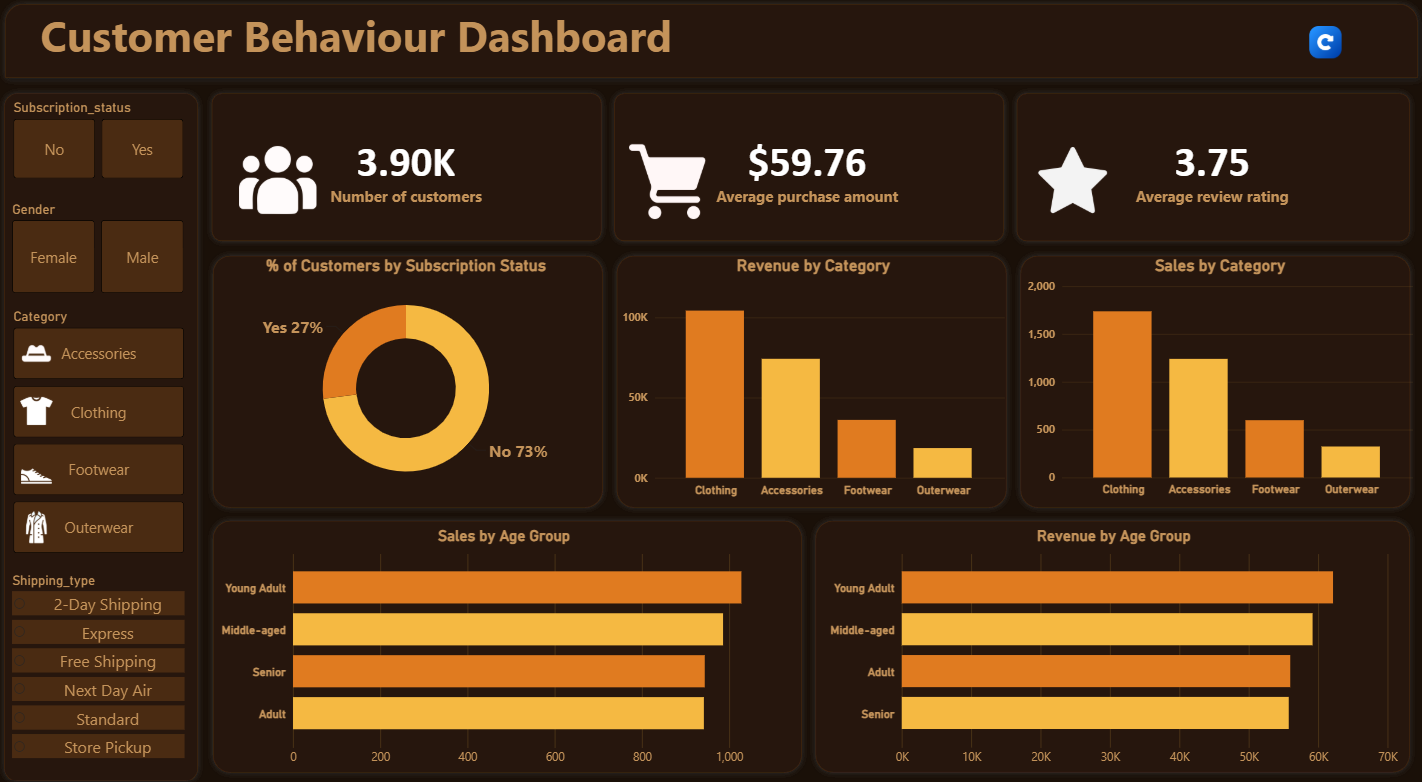

Layout of this report page (visuals, bound fields, positions):
{"tool":"powerbi","page":{"name":"Dashboard","canvas":[1800,1000],"ordinal":0},"visuals":[{"type":"shape","box":[1022.4,652.2,767.2,335.5],"z":0},{"type":"shape","box":[1281.3,318.4,509.4,335.8],"z":1000},{"type":"shape","box":[262.4,652.2,760.3,335.8],"z":2000},{"type":"shape","box":[771.9,318.4,509.4,335.8],"z":3000},{"type":"shape","box":[262.4,318.4,509.4,335.8],"z":4000},{"type":"shape","box":[260.9,113.9,509.4,204.5],"z":5000},{"type":"shape","box":[0,0,1800.6,113.4],"z":6000},{"type":"textbox","box":[36.7,8.3,833.3,81.7],"z":7000},{"type":"donutChart","title":"% of Customers by Subscription Status","fields":{"Category":["public customer.subscription_status"],"Y":["CountNonNull(public customer.customer_id)"]},"box":[277.9,328,476.6,310.7],"z":8000},{"type":"clusteredColumnChart","title":"Revenue by Category","fields":{"Y":["Sum(public customer.purchase_amount)"],"Category":["public customer.category"]},"box":[783.5,328,492.1,310.7],"z":9000},{"type":"clusteredColumnChart","title":"Sales by Category","fields":{"Y":["CountNonNull(public customer.customer_id)"],"Category":["public customer.category"]},"box":[1293.3,327.7,496.2,310.3],"z":10000},{"type":"shape","box":[0,113.9,262.4,885.7],"z":11000},{"type":"advancedSlicerVisual","fields":{"Values":["public customer.subscription_status"]},"box":[15.4,131.2,225.8,104.2],"z":12000},{"type":"advancedSlicerVisual","fields":{"Values":["public customer.gender"]},"box":[13.5,258.6,227.7,121.6],"z":13000},{"type":"advancedSlicerVisual","fields":{"Values":["public customer.category"]},"box":[15.4,393.7,225.8,314.5],"z":14000},{"type":"listSlicer","fields":{"Values":["public customer.shipping_type"]},"box":[13.5,725.6,227.7,254.7],"z":15000},{"type":"clusteredBarChart","title":"Revenue by Age Group","fields":{"Category":["public customer.age_group"],"Y":["Sum(public customer.purchase_amount)"]},"box":[1044.4,669.5,726.2,310.3],"z":16000},{"type":"clusteredBarChart","title":"Sales by Age Group","fields":{"Category":["public customer.age_group"],"Y":["CountNonNull(public customer.customer_id)"]},"box":[277.9,669.6,723.6,310.7],"z":17000},{"type":"shape","box":[768.2,113.9,509.4,204.5],"z":18000},{"type":"card","title":"Number of customers","fields":{"Values":["public customer.Number of customers"]},"box":[277.9,133.1,476.6,166],"z":19000},{"type":"shape","box":[1276,113.4,513.6,204.8],"z":20000},{"type":"card","title":"Number of customers","fields":{"Values":["public customer.Average purchase amount"]},"box":[783.5,133.1,476.6,166],"z":21000},{"type":"card","title":"Number of customers","fields":{"Values":["public customer.Average review rating"]},"box":[1292.9,133.1,476.6,166],"z":22000},{"type":"image","box":[291.4,182.7,125,98],"z":23000},{"type":"image","box":[782.9,182.7,125,98],"z":24000},{"type":"image","box":[1293.3,182.7,125,98],"z":25000},{"type":"image","box":[19.9,430.1,58.3,41],"z":26000},{"type":"image","box":[19.9,502.5,58.3,41],"z":27000},{"type":"image","box":[18.5,582.9,61,44],"z":28000},{"type":"image","box":[20.5,649,58.3,41],"z":29000},{"type":"image","box":[1623.4,37.7,100,41],"z":30000}]}

Visuals, with their boxes in screenshot pixels (x1, y1, x2, y2), scaled from the page's 1800x1000 canvas onto the 1422x782 screenshot:
shape: region(808, 510, 1414, 772)
shape: region(1012, 249, 1415, 512)
shape: region(207, 510, 808, 773)
shape: region(610, 249, 1012, 512)
shape: region(207, 249, 610, 512)
shape: region(206, 89, 609, 249)
shape: region(0, 0, 1421, 89)
textbox: region(29, 6, 687, 70)
"% of Customers by Subscription Status" donutChart: region(220, 256, 596, 499)
"Revenue by Category" clusteredColumnChart: region(619, 256, 1008, 499)
"Sales by Category" clusteredColumnChart: region(1022, 256, 1414, 499)
shape: region(0, 89, 207, 781)
advancedSlicerVisual - public customer.subscription_status: region(12, 103, 191, 184)
advancedSlicerVisual - public customer.gender: region(11, 202, 191, 297)
advancedSlicerVisual - public customer.category: region(12, 308, 191, 554)
listSlicer - public customer.shipping_type: region(11, 567, 191, 767)
"Revenue by Age Group" clusteredBarChart: region(825, 524, 1399, 766)
"Sales by Age Group" clusteredBarChart: region(220, 524, 791, 767)
shape: region(607, 89, 1009, 249)
"Number of customers" card: region(220, 104, 596, 234)
shape: region(1008, 89, 1414, 249)
"Number of customers" card: region(619, 104, 995, 234)
"Number of customers" card: region(1021, 104, 1398, 234)
image: region(230, 143, 329, 220)
image: region(618, 143, 717, 220)
image: region(1022, 143, 1120, 220)
image: region(16, 336, 62, 368)
image: region(16, 393, 62, 425)
image: region(15, 456, 63, 490)
image: region(16, 508, 62, 540)
image: region(1282, 29, 1361, 62)
